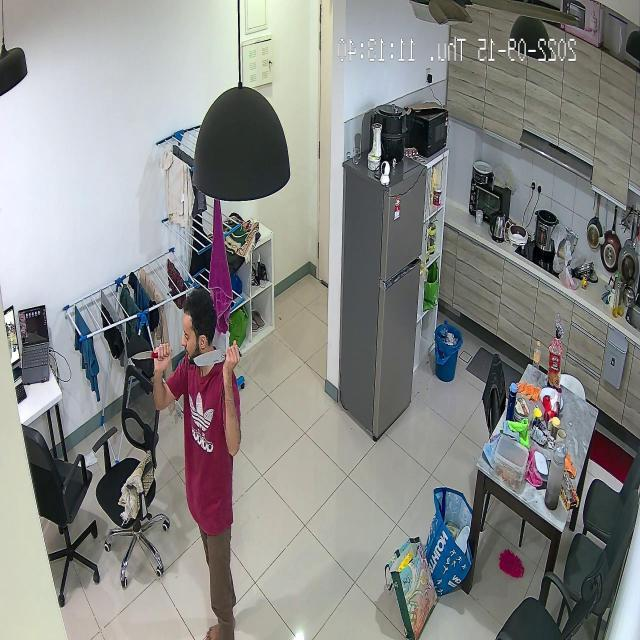Knife: (190, 340, 252, 375), (125, 341, 177, 372)
